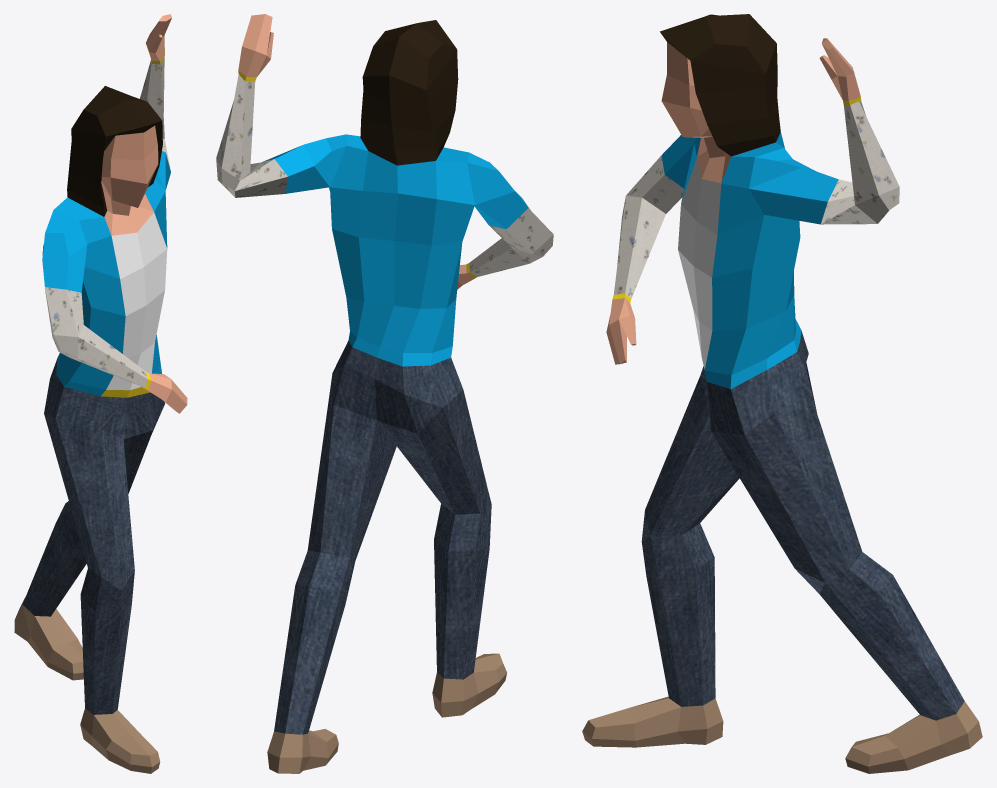
Rendered from SpringGirl.009.glb.
The picture shows the model from 3 angles, left to right: view 1: azimuth 30°, elevation 25°; view 2: azimuth 150°, elevation 25°; view 3: azimuth 270°, elevation 25°; orthographic projection. The views are drawn at different scales.
Visible parts, largest first — view 1: SpringGirl.009; view 2: SpringGirl.009; view 3: SpringGirl.009.
Boxes of the visible parts, x1,y1,x2,y2 form: SpringGirl.009: (14,14,187,773); SpringGirl.009: (216,14,553,773); SpringGirl.009: (582,14,982,773).
Bounding box in the file's own units: 0.4055 × 1.2 × 0.5685.
Materials: 1 (1 with a texture image).
